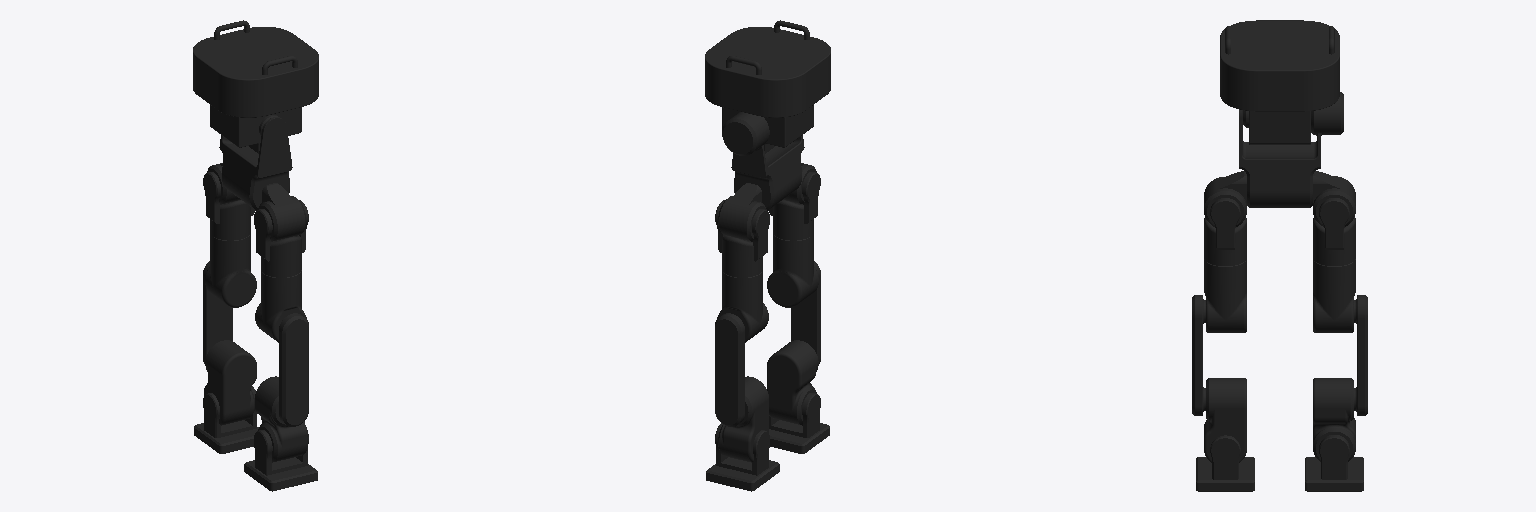
URDF robot description (Diden Walker):
<robot name="Diden Walker" xmlns:xacro="http://www.ros.org/wiki/xacro">
    <material name="black">
      <color rgba="0.0 0.0 0.0 1.0"/>
    </material>   
    <material name="blue">
        <color rgba="0.0 0.0 0.8 1.0"/>
    </material>
    <material name="green">
        <color rgba="0.0 0.8 0.0 1.0"/>
    </material>
    <material name="grey">
        <color rgba="0.2 0.2 0.2 1.0"/>
    </material>
    <material name="silver">
        <color rgba="0.913725490196 0.913725490196 0.847058823529 1.0"/>
    </material>
    <material name="orange">
        <color rgba="1.0 0.423529411765 0.0392156862745 1.0"/>
    </material>
    <material name="brown">
        <color rgba="0.870588235294 0.811764705882 0.764705882353 1.0"/>
    </material>
    <material name="red">
        <color rgba="0.8 0.0 0.0 1.0"/>
    </material>
    <material name="white">
        <color rgba="1.0 1.0 1.0 1.0"/>
    </material>

<!-- Pelvis -->
    <link name="Pelvis">
        <visual>
            <origin rpy="0.0 0.0 0.0" xyz="0.0 0.0 0.0"/>
            <geometry>
                <mesh filename="Diden_Walker_Simplified_Pelvis_verD1_20260317.stl"/>
            </geometry>
            <material name="grey"/>
        </visual>
        <collision>
            <origin rpy="1.57080 0.0 0.0" xyz="0.0 0.0 0.0"/>
            <geometry>
                <cylinder radius="0.068" length="0.17"/>
            </geometry>
        </collision>
        <collision>
            <origin rpy="1.57080 0.0 0.0" xyz="0.0 0.127 0.205"/>
            <geometry>
                <cylinder radius="0.058" length="0.08"/>
            </geometry>
        </collision>
        <inertial>
            <origin rpy="0.0 0.0 0.0" xyz="-0.00089 0.03229 0.06915"/>
            <mass value="8.26739"/>
            <inertia ixx="0.12137" ixy="-0.00047" ixz="-0.00086" iyy="0.08211" iyz="0.03643" izz="0.05623"/>
        </inertial>
    </link>
<!-- Pelvis -->

<!-- Left leg -->.
    <joint name="00_left_hip_pitch_joint" type="revolute">
        <origin rpy="0.0 0.0 0.0" xyz="0.0 0.088 0.0"/>
        <parent link="Pelvis"/>
        <child link="Left_HP2HR"/>
        <axis xyz="0 1 0"/>
        <dynamics rotor_inertia="0.000331"/>
        <limit effort="356.39" velocity="9.6675" lower="-1.65806" upper="1.65806"/>
    </joint>
    <link name="Left_HP2HR">
        <visual>
            <origin rpy="0.0 0.0 0.0" xyz="0.0 0.0 0.0"/>
            <geometry>
                <mesh filename="Diden_Walker_Simplified_HP2HR_Left_verD1_20260317.stl"/>
            </geometry>
            <material name="grey"/>
        </visual>
        <collision>
            <origin rpy="0.0 -1.57080 0.0" xyz="0.0 0.05775 -0.06"/>
            <geometry>
                <cylinder radius="0.058" length="0.107"/>
            </geometry>
            <material name="grey"/>
        </collision>
        <inertial>
            <origin rpy="0 0 0" xyz="0.00550 0.05030 -0.05367"/>
            <mass value="2.62970"/>
            <inertia ixx="0.00491" ixy="0.00020" ixz="-0.00011" iyy="0.00371" iyz="-0.00060" izz="0.00373"/>
        </inertial>
    </link>
  
    <joint name="01_left_hip_roll_joint" type="revolute">
        <origin rpy="0.0 0.0 0.0" xyz="0.0 0.05775 -0.06"/>
        <parent link="Left_HP2HR"/>
        <child link="Left_HR2HY"/>
        <axis xyz="1 0 0"/>
        <dynamics rotor_inertia="0.000331"/>
        <limit effort="356.39" velocity="9.6675" lower="-0.523599" upper="2.09440"/>
    </joint>
    <link name="Left_HR2HY">
        <visual>
            <origin rpy="0.0 0.0 0.0" xyz="0.0 0.0 0.0"/>
            <geometry>
                <mesh filename="Diden_Walker_Simplified_HR2HY_Left_verD1_20260317.stl"/>
            </geometry>
            <material name="grey"/>
        </visual>
        <collision>
            <origin rpy="0.0 0.0 0.0" xyz="0.0 0.0 -0.115"/>
            <geometry>
                <cylinder radius="0.058" length="0.09"/>
            </geometry>
        </collision>
        <inertial>
            <origin rpy="0 0 0" xyz="0.00203 0.00071 -0.09162"/>
            <mass value="1.55288"/>
            <inertia ixx="0.00522" ixy="0.00002" ixz="0.00027" iyy="0.00644" iyz="0.00002" izz="0.00359"/>
        </inertial>
    </link>

    <joint name="02_left_hip_yaw_joint" type="revolute">
        <origin rpy="0.0 0.0 0.0" xyz="0.0 0.0 -0.16"/>
        <parent link="Left_HR2HY"/>
        <child link="Left_HY2K"/>
        <axis xyz="0 0 1"/>
        <dynamics rotor_inertia="0.000331"/>
        <limit effort="356.39" velocity="9.6675" lower="-1.57080" upper="1.57080"/>
    </joint>
    <link name="Left_HY2K">
        <visual>
            <origin rpy="0.0 0.0 0.0" xyz="0.0 0.0 0.0"/>
            <geometry>
                <mesh filename="Diden_Walker_Simplified_HY2K_Left_verD1_20260317.stl"/>
            </geometry>
            <material name="grey"/>
        </visual>
        <collision>
            <origin rpy="0.0 0.0 0.0" xyz="0.0 0.0 -0.049"/>
            <geometry>
                <cylinder radius="0.058" length="0.098"/>
            </geometry>
        </collision>
        <collision>
            <origin rpy="1.57080 0.0 0.0" xyz="0.0 0.0 -0.16"/>
            <geometry>
                <cylinder radius="0.058" length="0.116"/>
            </geometry>
        </collision>
        <inertial>
            <origin rpy="0 0 0" xyz="0.00305 0.00355 -0.10302"/>
            <mass value="5.00840"/>
            <inertia ixx="0.02118" ixy="-0.00014" ixz="-0.00014" iyy="0.02263" iyz="-0.00098" izz="0.00747"/>
        </inertial>
    </link>

    <joint name="03_left_knee_joint" type="revolute">
        <origin rpy="0.0 0.0 0.0" xyz="0.0 0.0 -0.16"/>
        <parent link="Left_HY2K"/>
        <child link="Left_K2AP"/>
        <axis xyz="0 1 0"/>
        <dynamics rotor_inertia="0.000331"/>
        <limit effort="356.39" velocity="9.6675" lower="-2.61799" upper="2.61799"/>
    </joint>
    <link name="Left_K2AP">
        <visual>
            <origin rpy="0.0 0.0 0.0" xyz="0.0 0.0 0.0"/>
            <geometry>
                <mesh filename="Diden_Walker_Simplified_K2AP_Left_verD1_20260317.stl"/>
            </geometry>
            <material name="grey"/>
        </visual>
        <collision>
            <origin rpy="1.57080 0.0 0.0" xyz="0.0 0.075 0.0"/>
            <geometry>
                <cylinder radius="0.045" length="0.03"/>
            </geometry>
        </collision>
        <collision>
            <origin rpy="0.0 0.0 0.0" xyz="0.0 0.075 -0.13"/>
            <geometry>
                <box size="0.09 0.03 0.16"/>
            </geometry>
        </collision>
        <collision>
            <origin rpy="1.57080 0.0 0.0" xyz="0.0 0.075 -0.26"/>
            <geometry>
                <cylinder radius="0.045" length="0.03"/>
            </geometry>
        </collision>
        <inertial>
            <origin rpy="0 0 0" xyz="0.0 0.07008 -0.13"/>
            <mass value="1.00185"/>
            <inertia ixx="0.01152" ixy="0.0" ixz="0.0" iyy="0.01231" iyz="0.0" izz="0.00095"/>
        </inertial>
    </link>

    <joint name="04_left_ankle_pitch_joint" type="revolute">
        <origin rpy="0.0 0.0 0.0" xyz="0.0 0.0 -0.26"/>
        <parent link="Left_K2AP"/>
        <child link="Left_AP2AR"/>
        <axis xyz="0 1 0"/>
        <dynamics rotor_inertia="0.000331"/>
        <limit effort="356.39" velocity="9.6675" lower="-2.53073" upper="2.53073"/>
    </joint>
    <link name="Left_AP2AR">
        <visual>
            <origin rpy="0.0 0.0 0.0" xyz="0.0 0.0 0.0"/>
            <geometry>
                <mesh filename="Diden_Walker_Simplified_AP2AR_Left_verD1_20260317.stl"/>
            </geometry>
            <material name="grey"/>
        </visual>
        <collision>
            <origin rpy="1.57080 0.0 0.0" xyz="0.0 0.0 0.0"/>
            <geometry>
                <cylinder radius="0.058" length="0.116"/>
            </geometry>
        </collision>
        <collision>
            <origin rpy="0.0 1.57080 0.0" xyz="0.0 0.0 -0.12"/>
            <geometry>
                <cylinder radius="0.058" length="0.116"/>
            </geometry>
        </collision>
        <inertial>
            <origin rpy="0 0 0" xyz="0.00435 0.00177 -0.06111"/>
            <mass value="5.23490"/>
            <inertia ixx="0.02424" ixy="-0.00003" ixz="-0.00060" iyy="0.02423" iyz="0.00166" izz="0.00755"/>
        </inertial>
    </link>

    <joint name="05_left_ankle_roll_joint" type="revolute">
        <origin rpy="0.0 0.0 0.0" xyz="0.0 0.0 -0.12"/>
        <parent link="Left_AP2AR"/>
        <child link="Left_AR2F"/>
        <axis xyz="1 0 0"/>
        <dynamics rotor_inertia="0.000331"/>
        <limit effort="356.39" velocity="9.6675" lower="-1.65806" upper="1.65806"/>
    </joint>
    <link name="Left_AR2F">
        <visual>
            <origin rpy="0.0 0.0 0.0" xyz="0.0 0.0 0.0"/>
            <geometry>
                <mesh filename="Diden_Walker_Simplified_AR2F_Left_verD1_20260317.stl"/>
            </geometry>
            <material name="grey"/>
        </visual>
        <collision>
            <origin rpy="0.0 0.0 0.0" xyz="0.0 0.0 -0.0995"/>
            <geometry>
                <box size="0.155 0.155 0.031"/>
            </geometry>
        </collision>
        <inertial>
            <origin rpy="0 0 0" xyz="-0.00327 0.0 -0.06529"/>
            <mass value="0.97436"/>
            <inertia ixx="0.00304" ixy="0.0" ixz="-0.00018" iyy="0.00430" iyz="0.0" izz="0.00347"/>
        </inertial>
    </link>
<!-- Left leg -->

<!-- Right leg -->
    <joint name="06_right_hip_pitch_joint" type="revolute">
        <origin rpy="0.0 0.0 0.0" xyz="0.0 -0.088 0.0"/>
        <parent link="Pelvis"/>
        <child link="Right_HP2HR"/>
        <axis xyz="0 1 0"/>
        <dynamics rotor_inertia="0.000331"/>
        <limit effort="356.39" velocity="9.6675" lower="-1.65806" upper="1.65806"/>
    </joint>
    <link name="Right_HP2HR">
        <visual>
            <origin rpy="0.0 0.0 0.0" xyz="0.0 0.0 0.0"/>
            <geometry>
                <mesh filename="Diden_Walker_Simplified_HP2HR_Right_verD1_20260317.stl"/>
            </geometry>
            <material name="grey"/>
        </visual>
        <collision>
            <origin rpy="0.0 -1.57080 0.0" xyz="0.0 -0.05775 -0.06"/>
            <geometry>
                <cylinder radius="0.058" length="0.107"/>
            </geometry>
            <material name="grey"/>
        </collision>
        <inertial>
            <origin rpy="0 0 0" xyz="-0.00550 -0.05030 -0.05367"/>
            <mass value="2.62970"/>
            <inertia ixx="0.00491" ixy="0.00020" ixz="0.00011" iyy="0.00371" iyz="0.00060" izz="0.00373"/>
        </inertial>
    </link>
  
    <joint name="07_right_hip_roll_joint" type="revolute">
        <origin rpy="0.0 0.0 0.0" xyz="0.0 -0.05775 -0.06"/>
        <parent link="Right_HP2HR"/>
        <child link="Right_HR2HY"/>
        <axis xyz="1 0 0"/>
        <dynamics rotor_inertia="0.000331"/>
        <limit effort="356.39" velocity="9.6675" lower="-2.09440" upper="0.523599"/>
    </joint>
    <link name="Right_HR2HY">
        <visual>
            <origin rpy="0.0 0.0 0.0" xyz="0.0 0.0 0.0"/>
            <geometry>
                <mesh filename="Diden_Walker_Simplified_HR2HY_Right_verD1_20260317.stl"/>
            </geometry>
            <material name="grey"/>
        </visual>
        <collision>
            <origin rpy="0.0 0.0 0.0" xyz="0.0 0.0 -0.115"/>
            <geometry>
                <cylinder radius="0.058" length="0.09"/>
            </geometry>
        </collision>
        <inertial>
            <origin rpy="0 0 0" xyz="-0.00203 -0.00071 -0.09162"/>
            <mass value="1.55288"/>
            <inertia ixx="0.00522" ixy="-0.00002" ixz="-0.00027" iyy="0.00644" iyz="-0.00002" izz="0.00359"/>
        </inertial>
    </link>

    <joint name="08_right_hip_yaw_joint" type="revolute">
        <origin rpy="0.0 0.0 0.0" xyz="0.0 0.0 -0.16"/>
        <parent link="Right_HR2HY"/>
        <child link="Right_HY2K"/>
        <axis xyz="0 0 1"/>
        <dynamics rotor_inertia="0.000331"/>
        <limit effort="356.39" velocity="9.6675" lower="-1.57080" upper="1.57080"/>
    </joint>
    <link name="Right_HY2K">
        <visual>
            <origin rpy="0.0 0.0 0.0" xyz="0.0 0.0 0.0"/>
            <geometry>
                <mesh filename="Diden_Walker_Simplified_HY2K_Right_verD1_20260317.stl"/>
            </geometry>
            <material name="grey"/>
        </visual>
        <collision>
            <origin rpy="0.0 0.0 0.0" xyz="0.0 0.0 -0.049"/>
            <geometry>
                <cylinder radius="0.058" length="0.098"/>
            </geometry>
        </collision>
        <collision>
            <origin rpy="1.57080 0.0 0.0" xyz="0.0 0.0 -0.16"/>
            <geometry>
                <cylinder radius="0.058" length="0.116"/>
            </geometry>
        </collision>
        <inertial>
            <origin rpy="0 0 0" xyz="-0.00305 -0.00355 -0.10302"/>
            <mass value="5.00840"/>
            <inertia ixx="0.02118" ixy="-0.00014" ixz="0.00014" iyy="0.02263" iyz="0.00098" izz="0.00747"/>
        </inertial>
    </link>

    <joint name="09_right_knee_joint" type="revolute">
        <origin rpy="0.0 0.0 0.0" xyz="0.0 0.0 -0.16"/>
        <parent link="Right_HY2K"/>
        <child link="Right_K2AP"/>
        <axis xyz="0 1 0"/>
        <dynamics rotor_inertia="0.000331"/>
        <limit effort="356.39" velocity="9.6675" lower="-2.61799" upper="2.61799"/>
    </joint>
    <link name="Right_K2AP">
        <visual>
            <origin rpy="0.0 0.0 0.0" xyz="0.0 0.0 0.0"/>
            <geometry>
                <mesh filename="Diden_Walker_Simplified_K2AP_Right_verD1_20260317.stl"/>
            </geometry>
            <material name="grey"/>
        </visual>
        <collision>
            <origin rpy="1.57080 0.0 0.0" xyz="0.0 -0.075 0.0"/>
            <geometry>
                <cylinder radius="0.045" length="0.03"/>
            </geometry>
        </collision>
        <collision>
            <origin rpy="0.0 0.0 0.0" xyz="0.0 -0.075 -0.13"/>
            <geometry>
                <box size="0.09 0.03 0.16"/>
            </geometry>
        </collision>
        <collision>
            <origin rpy="1.57080 0.0 0.0" xyz="0.0 -0.075 -0.26"/>
            <geometry>
                <cylinder radius="0.045" length="0.03"/>
            </geometry>
        </collision>
        <inertial>
            <origin rpy="0 0 0" xyz="0.0 -0.07008 -0.13"/>
            <mass value="1.00185"/>
            <inertia ixx="0.01152" ixy="0.0" ixz="0.0" iyy="0.01231" iyz="0.0" izz="0.00095"/>
        </inertial>
    </link>

    <joint name="10_right_ankle_pitch_joint" type="revolute">
        <origin rpy="0.0 0.0 0.0" xyz="0.0 0.0 -0.26"/>
        <parent link="Right_K2AP"/>
        <child link="Right_AP2AR"/>
        <axis xyz="0 1 0"/>
        <dynamics rotor_inertia="0.000331"/>
        <limit effort="356.39" velocity="9.6675" lower="-2.53073" upper="2.53073"/>
    </joint>
    <link name="Right_AP2AR">
        <visual>
            <origin rpy="0.0 0.0 0.0" xyz="0.0 0.0 0.0"/>
            <geometry>
                <mesh filename="Diden_Walker_Simplified_AP2AR_Right_verD1_20260317.stl"/>
            </geometry>
            <material name="grey"/>
        </visual>
        <collision>
            <origin rpy="1.57080 0.0 0.0" xyz="0.0 0.0 0.0"/>
            <geometry>
                <cylinder radius="0.058" length="0.116"/>
            </geometry>
        </collision>
        <collision>
            <origin rpy="0.0 1.57080 0.0" xyz="0.0 0.0 -0.12"/>
            <geometry>
                <cylinder radius="0.058" length="0.116"/>
            </geometry>
        </collision>
        <inertial>
            <origin rpy="0 0 0" xyz="-0.00435 -0.00177 -0.06111"/>
            <mass value="5.23490"/>
            <inertia ixx="0.02424" ixy="-0.00003" ixz="0.00060" iyy="0.02423" iyz="-0.00166" izz="0.00755"/>
        </inertial>
    </link>

    <joint name="11_right_ankle_roll_joint" type="revolute">
        <origin rpy="0.0 0.0 0.0" xyz="0.0 0.0 -0.12"/>
        <parent link="Right_AP2AR"/>
        <child link="Right_AR2F"/>
        <axis xyz="1 0 0"/>
        <dynamics rotor_inertia="0.000331"/>
        <limit effort="356.39" velocity="9.6675" lower="-1.65806" upper="1.65806"/>
    </joint>
    <link name="Right_AR2F">
        <visual>
            <origin rpy="0.0 0.0 0.0" xyz="0.0 0.0 0.0"/>
            <geometry>
                <mesh filename="Diden_Walker_Simplified_AR2F_Right_verD1_20260317.stl"/>
            </geometry>
            <material name="grey"/>
        </visual>
        <collision>
            <origin rpy="0.0 0.0 0.0" xyz="0.0 0.0 -0.0995"/>
            <geometry>
                <box size="0.155 0.155 0.031"/>
            </geometry>
        </collision>
        <inertial>
            <origin rpy="0 0 0" xyz="0.00327 0.0 -0.06529"/>
            <mass value="0.97436"/>
            <inertia ixx="0.00304" ixy="0.0" ixz="0.00018" iyy="0.00430" iyz="0.0" izz="0.00347"/>
        </inertial>
    </link>
<!-- Right leg -->

<!-- Base -->
    <joint name="12_waist_pitch_joint" type="revolute">
        <origin rpy="0.0 0.0 0.0" xyz="0.0 0.0 0.205"/>
        <parent link="Pelvis"/>
        <child link="Base"/>
        <axis xyz="0 1 0"/>
        <dynamics rotor_inertia="0.000331"/>
        <limit effort="356.39" velocity="9.6675" lower="-1.57080" upper="1.57080"/>
    </joint>
    <link name="Base">
        <visual>
            <origin rpy="0.0 0.0 0.0" xyz="0.0 0.0 0.0"/>
            <geometry>
                <mesh filename="Diden_Walker_Simplified_Base_verD1_20260317.stl"/>
            </geometry>
            <material name="grey"/>
        </visual>
        <collision>
            <origin rpy="0.0 0.0 0.0" xyz="0.0 0.0 0.0"/>
            <geometry>
                <mesh filename="Diden_Walker_Simplified_Base_verD1_20260317.stl"/>
            </geometry>
        </collision>
        <inertial>
            <origin rpy="0 0 0" xyz="-0.00009 -0.00012 0.07087"/>
            <mass value="10.13087"/>
            <inertia ixx="0.14077" ixy="0.00023" ixz="-0.00088" iyy="0.13863" iyz="0.00071" izz="0.13713"/>
        </inertial>
    </link>
<!-- Base -->

</robot>

--- What the picture shows (computed from the rendered views, not written in the file) ---
Views: 3 orthographic renders of the robot side by side, from view 1: azimuth 30°, elevation 25°; view 2: azimuth 150°, elevation 25°; view 3: azimuth 270°, elevation 25°.
Model Diden Walker with 14 links and 13 joints (13 revolute), rooted at Pelvis, posed every joint at zero.
Links seen in each view (by area): view 1: Base, Pelvis, Left_AP2AR, Right_K2AP, Left_HY2K, Right_AR2F, Right_AP2AR, Right_HR2HY, Right_HY2K, Left_AR2F, Left_HR2HY, Right_HP2HR (+1 smaller); view 2: Base, Pelvis, Right_AP2AR, Left_K2AP, Right_HY2K, Left_AP2AR, Left_AR2F, Left_HR2HY, Left_HY2K, Right_AR2F, Right_HR2HY, Left_HP2HR (+1 smaller); view 3: Base, Pelvis, Left_HY2K, Right_HY2K, Right_AP2AR, Left_AP2AR, Left_AR2F, Right_AR2F, Left_HR2HY, Right_HR2HY, Left_K2AP, Right_K2AP (+2 smaller).
Link boxes in pixels (x1,y1,x2,y2): Base: (193,20,318,153); Pelvis: (219,117,292,210); Left_AP2AR: (204,340,256,425); Right_K2AP: (279,313,308,426); Left_HY2K: (205,233,256,307); Right_AR2F: (244,430,317,491); Right_AP2AR: (255,376,307,462); Right_HR2HY: (254,200,308,277); Right_HY2K: (255,270,306,342); Left_AR2F: (194,386,258,453); Left_HR2HY: (203,172,255,240); Right_HP2HR: (258,183,305,241); Base: (705,20,830,153); Pelvis: (722,112,804,210); Right_AP2AR: (767,340,818,425); Left_K2AP: (715,313,744,426); Right_HY2K: (767,233,818,307); Left_AP2AR: (718,376,768,462); Left_AR2F: (706,423,779,491); Left_HR2HY: (715,200,769,277); Left_HY2K: (717,270,768,342); Right_AR2F: (769,393,829,453); Right_HR2HY: (768,172,820,240); Left_HP2HR: (718,183,766,241); Base: (1220,20,1339,144); Pelvis: (1239,92,1343,207); Left_HY2K: (1313,259,1355,332); Right_HY2K: (1204,259,1246,332); Right_AP2AR: (1204,378,1246,462); Left_AP2AR: (1313,378,1355,461); Left_AR2F: (1305,435,1363,491); Right_AR2F: (1196,435,1254,491); Left_HR2HY: (1313,198,1355,265); Right_HR2HY: (1204,198,1246,265); Left_K2AP: (1354,295,1367,415); Right_K2AP: (1192,295,1205,415).
Size in the robot's own frame: 0.32 by 0.473 by 1.32 metres.
Meshes: 14 distinct files referenced, 14 mesh visuals loaded (14 binary STL).
